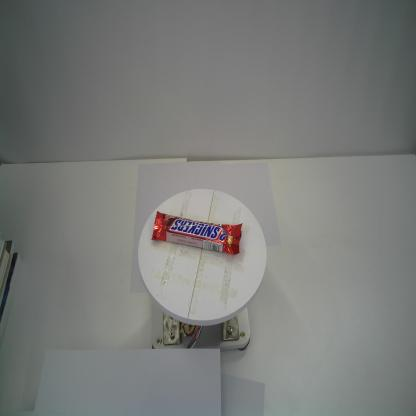Chocolate: (151, 210, 243, 256)
